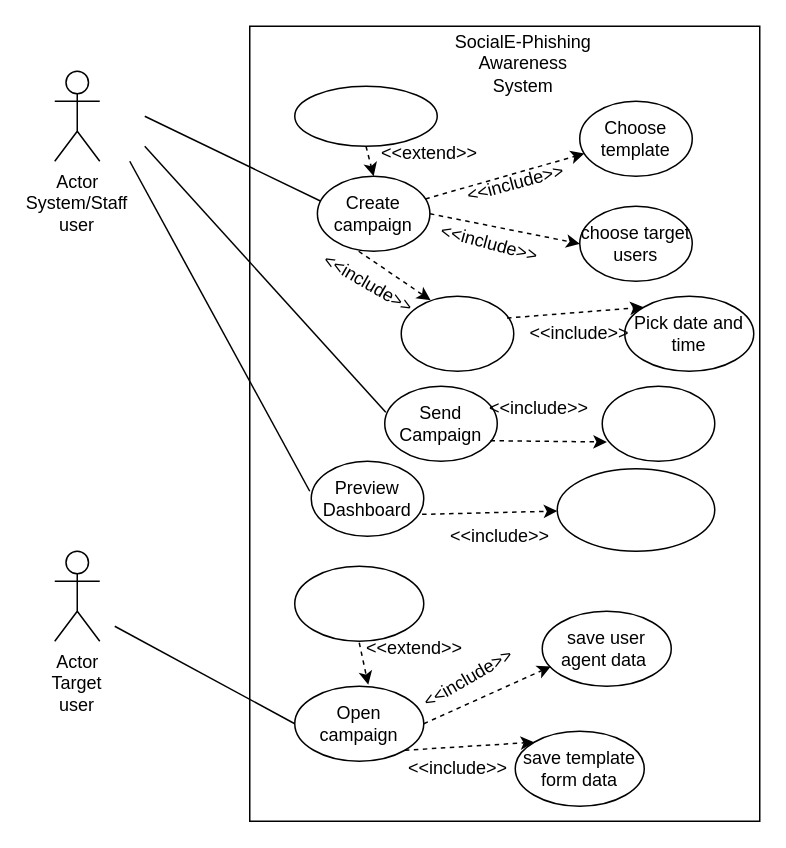
Image size: 786x848. Some labels were removed from this diagram. The box of each missing label's shape, as (x1, y1, x2, y2) in pixels:
Campaign creation failure: (293, 85, 437, 146)
Campaign not opened: (293, 565, 424, 641)
Retrieve campaign & target user log: (556, 467, 715, 551)
Schedule campaign: (400, 295, 514, 371)
send email with template: (601, 385, 715, 461)
